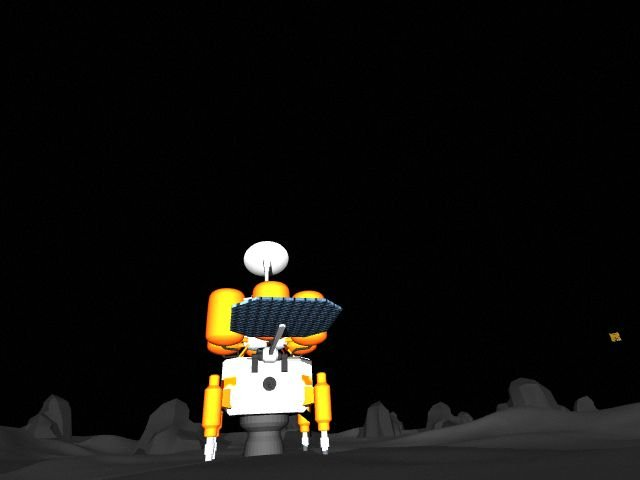homebase: (199, 239, 344, 464)
